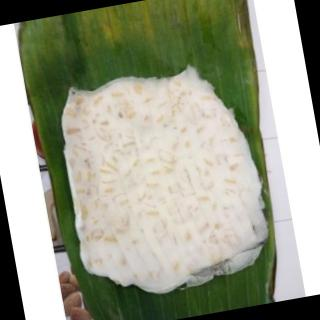Tempe: (49, 57, 281, 309)
